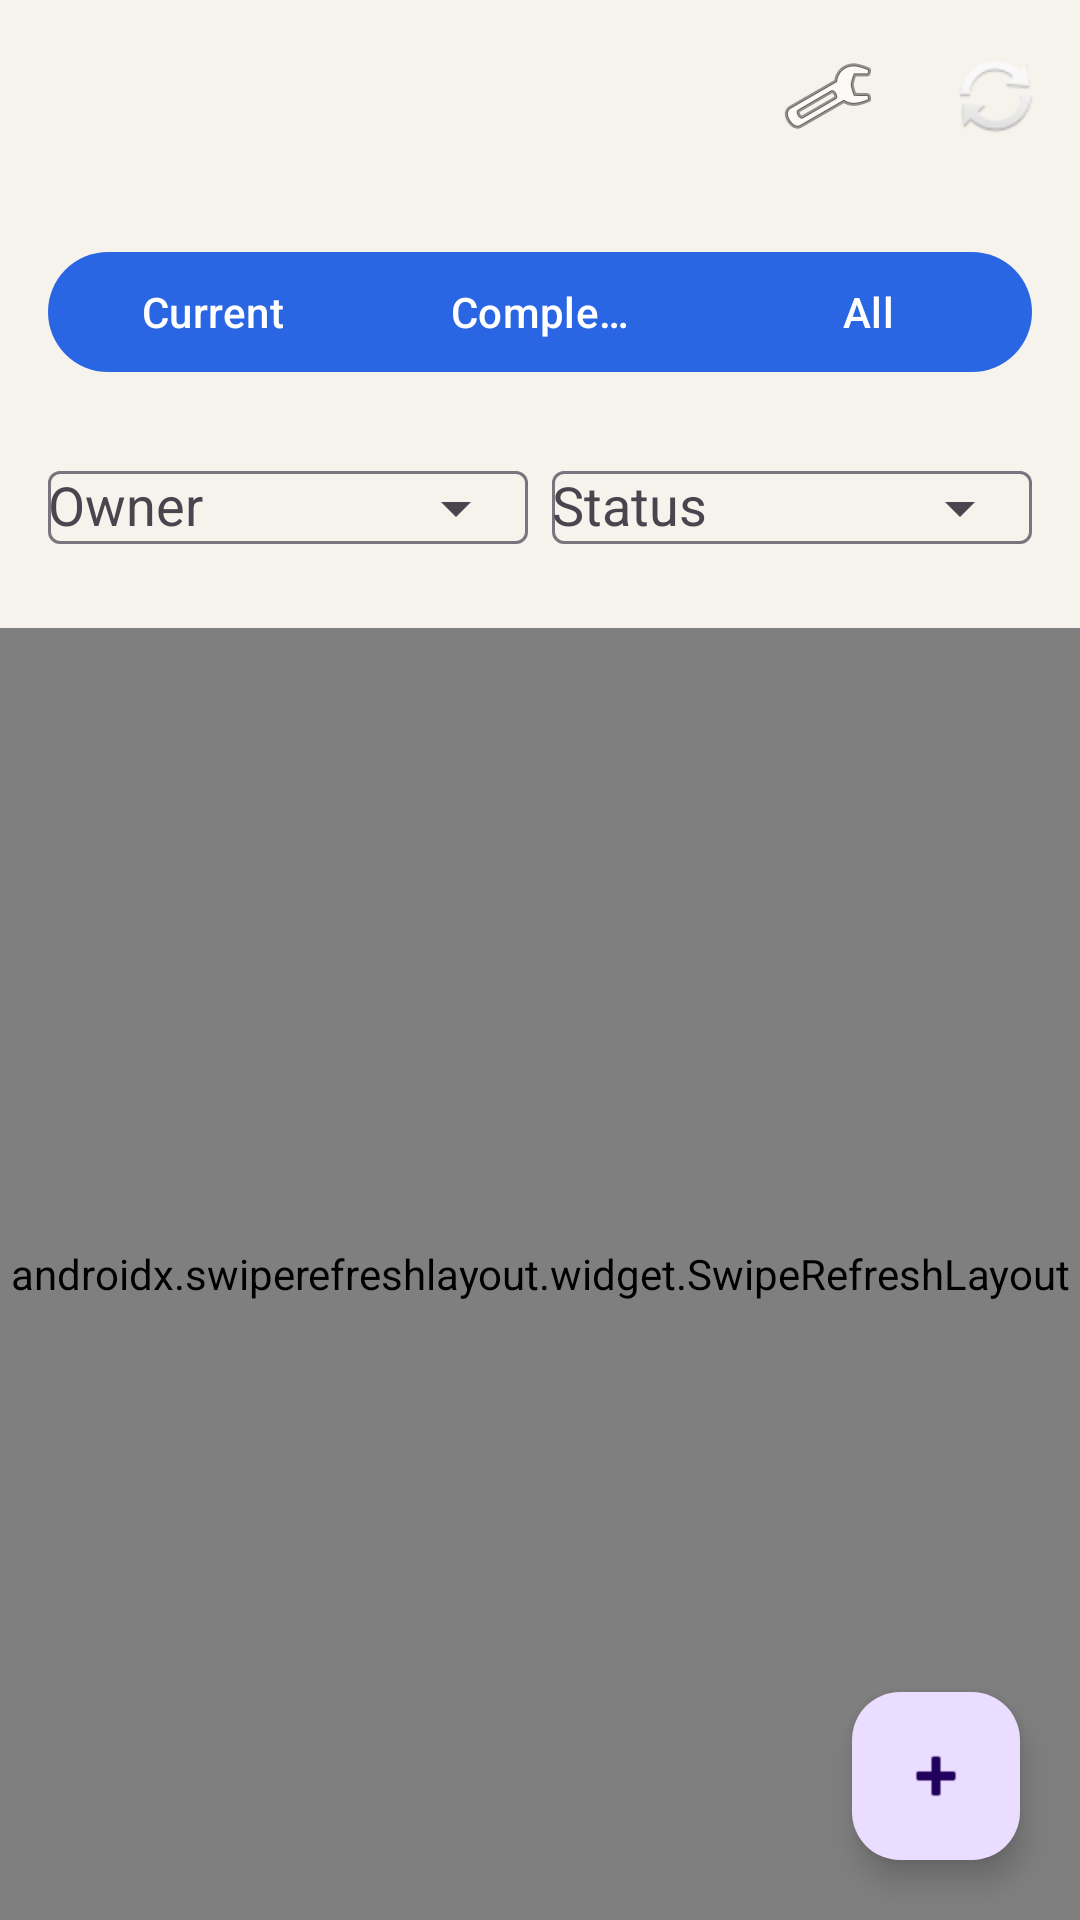

Where to tap for icons on this 1080x1920 app screen, as [x,y]:
Add task: [936,1776]
